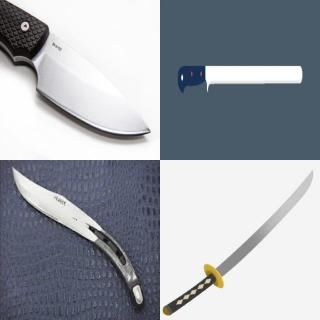knife: (23, 29, 155, 156), (203, 17, 305, 136), (1, 160, 102, 266), (215, 165, 314, 272), (19, 62, 25, 68), (209, 185, 211, 188)
